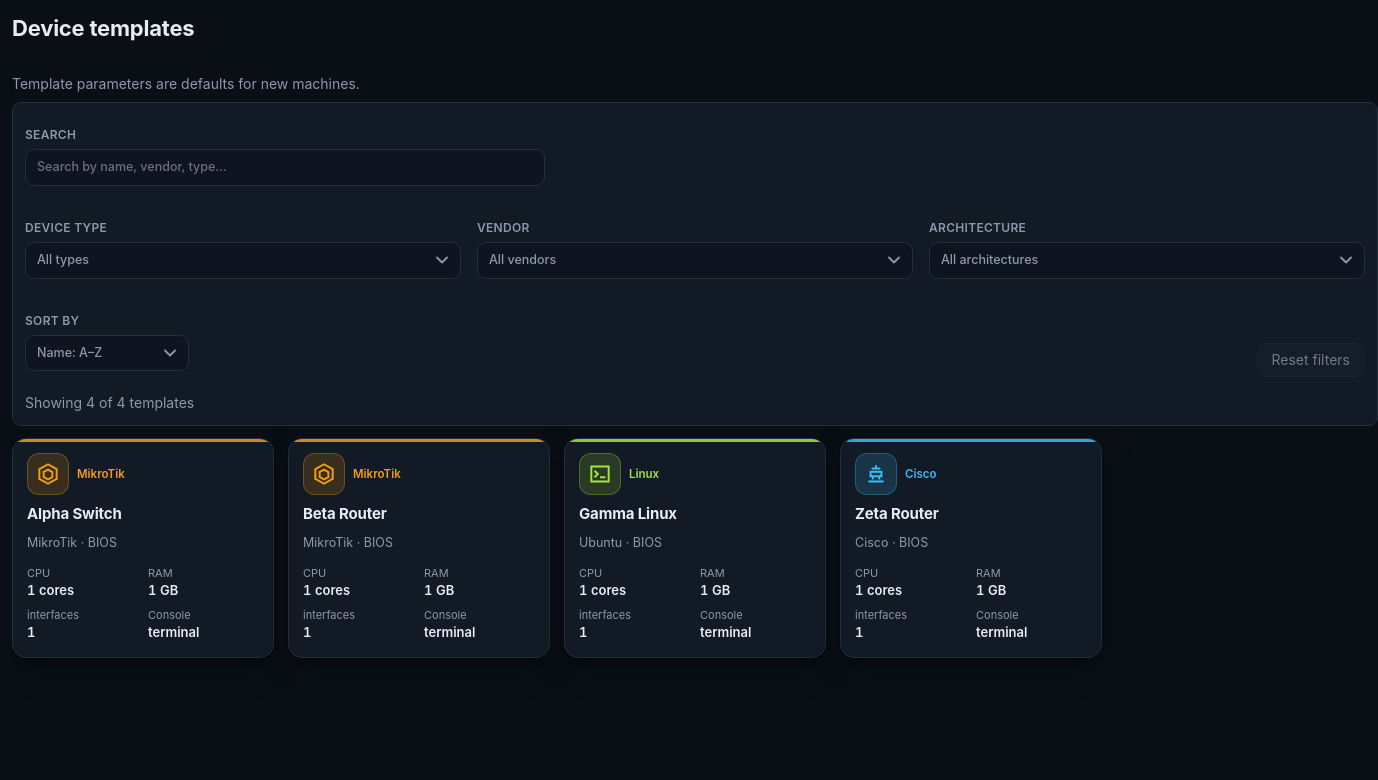
Test: TemplatesPage filtering › shows an empty state with a reset button and restores all templates on reset
Expected: the text "Alpha Switch" is shown, [27,504,122,523]
In the search field: (285, 167) [25,149,545,186], type "nothing-matches"
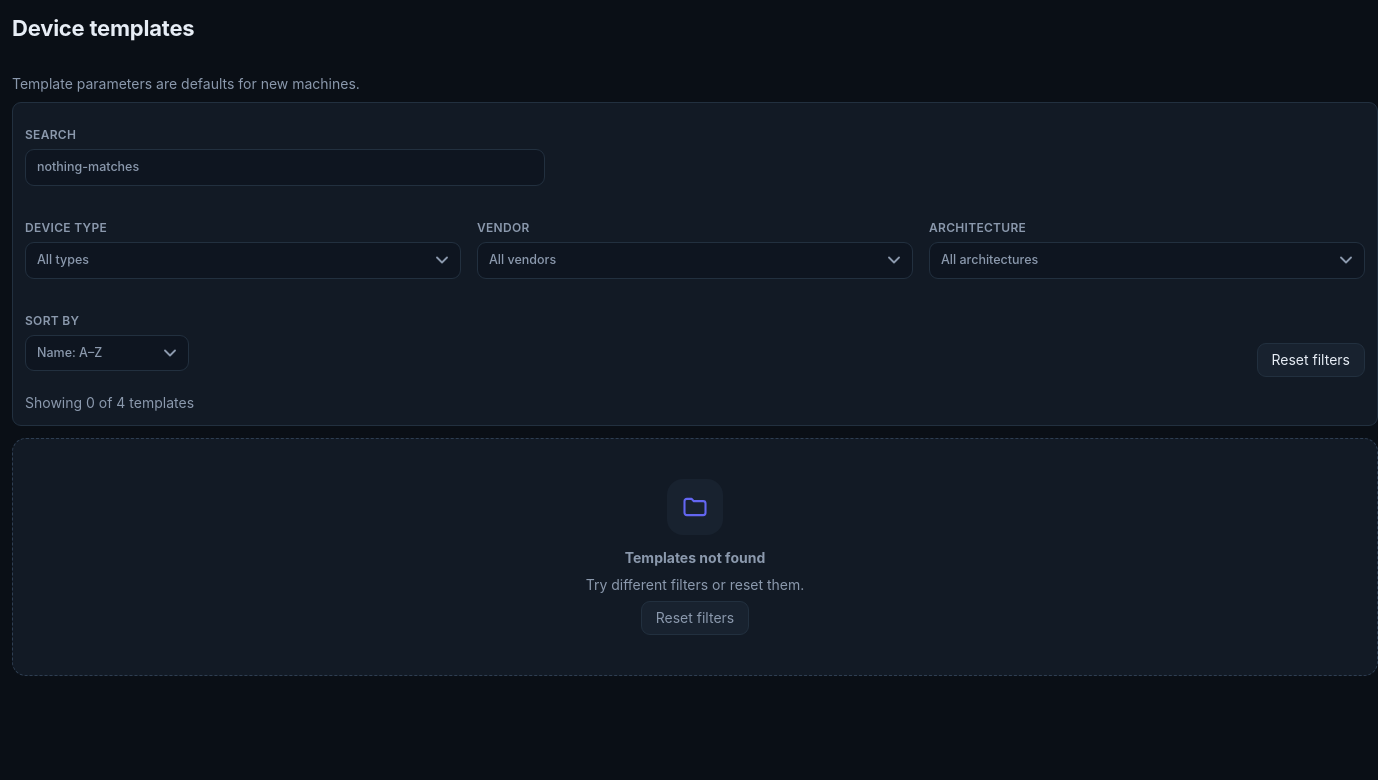
Now the text "Templates not found" is shown, box [625,547,765,568]
Click the button "Reset filters" below "Try different filters or reset them.": (695, 618) [641,601,749,635]
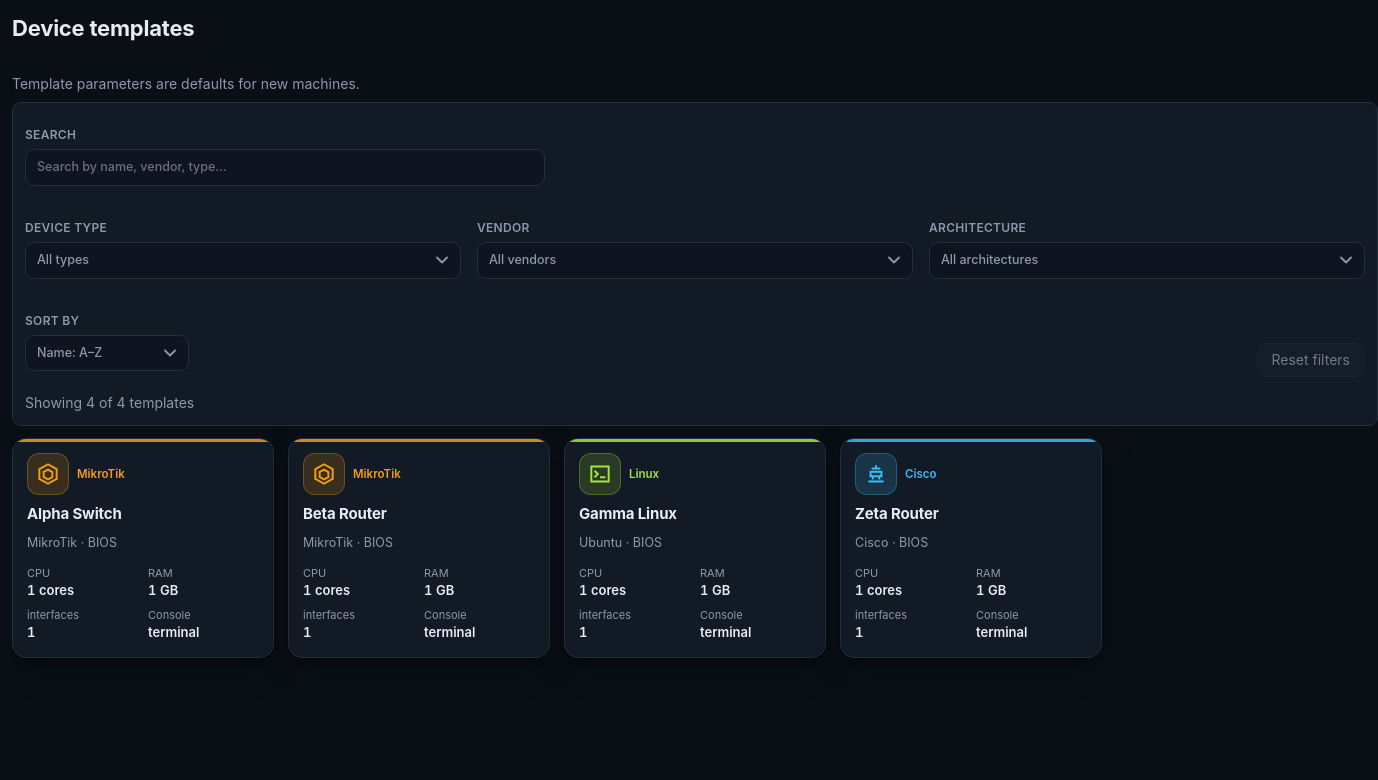
Now the text "Showing 4 of 4 templates" is shown, box [25,394,194,411]
